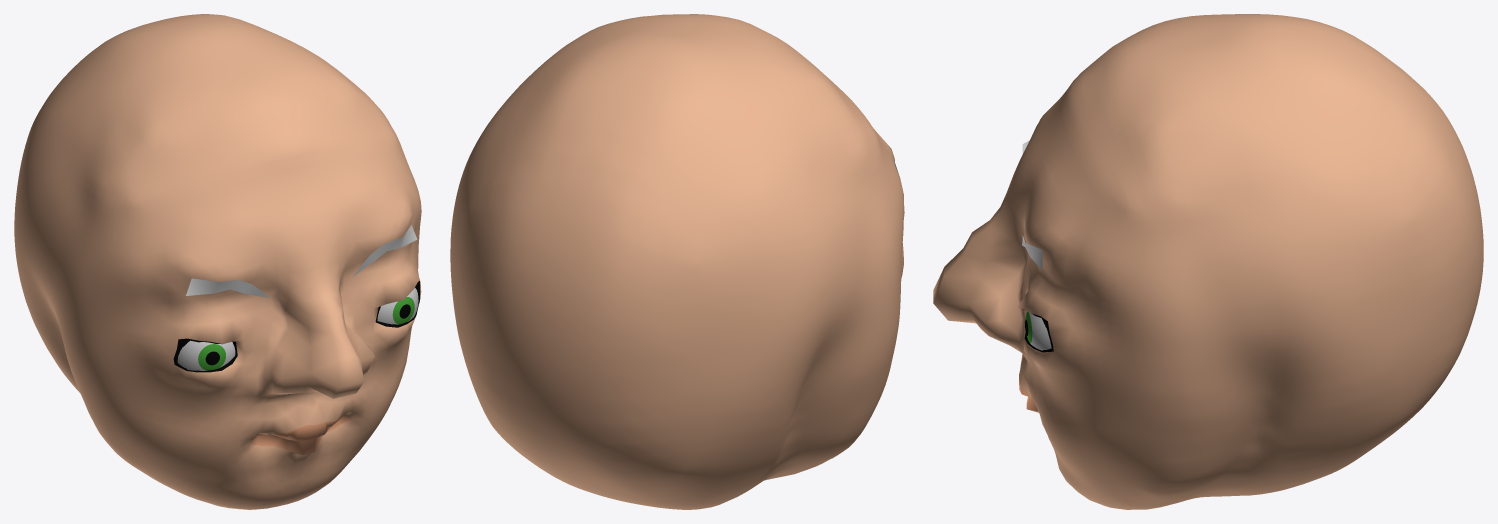
The model's file is HighPoly Ball.dae.
3 renders of one model, left to right at view 1: azimuth 30°, elevation 25°; view 2: azimuth 150°, elevation 25°; view 3: azimuth 270°, elevation 25°, orthographic. The views are drawn at different scales.
Visible parts, largest first — view 1: Cube, Sphere, Cube_001; view 2: Cube; view 3: Cube, Sphere.
Boxes of the visible parts, bbox=[...] form: Cube: bbox=[14, 14, 421, 509]; Sphere: bbox=[177, 288, 418, 370]; Cube_001: bbox=[186, 225, 417, 297]; Cube: bbox=[450, 14, 904, 509]; Cube: bbox=[933, 14, 1483, 509]; Sphere: bbox=[1025, 311, 1051, 350].
Size of the model in its own units: 2.76 by 3.56 by 3.3.
